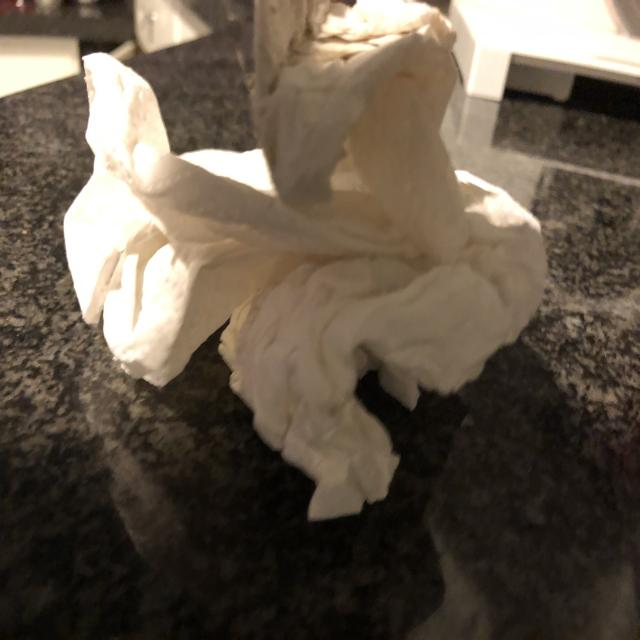kitchen paper: (63, 0, 551, 523)
